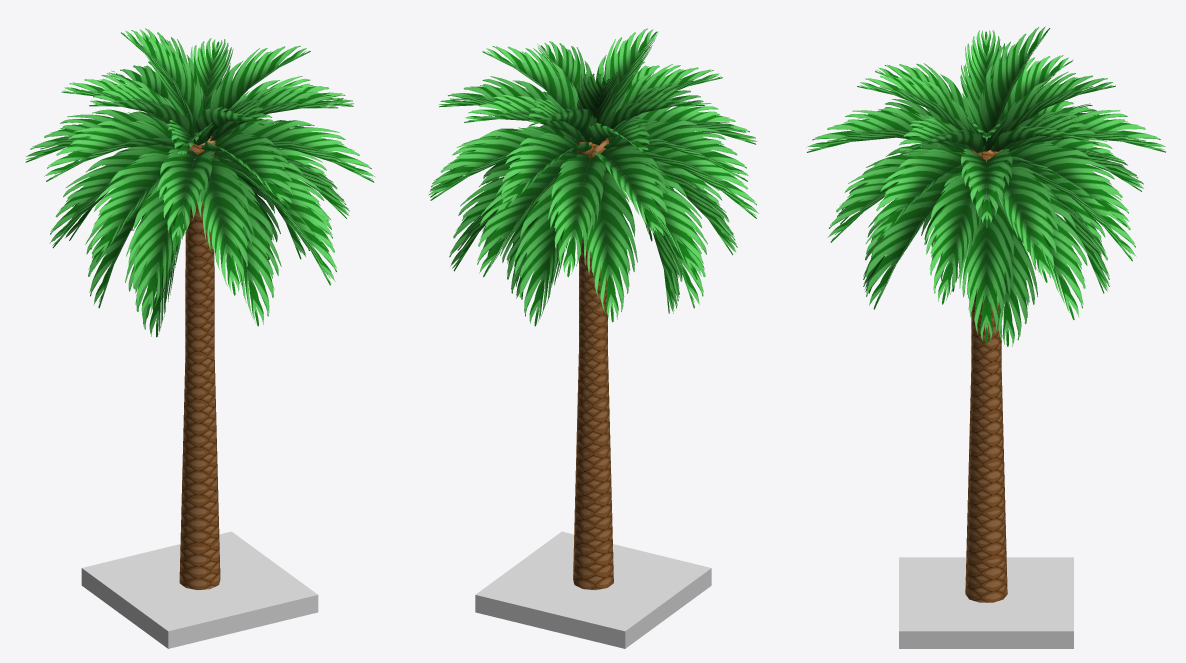
File: Palmtree.fbx
3 renders of one model, left to right at view 1: azimuth 30°, elevation 25°; view 2: azimuth 150°, elevation 25°; view 3: azimuth 270°, elevation 25°, orthographic.
Visible parts, largest first — view 1: palm_trunk, Palm_Base_low; view 2: palm_trunk, Palm_Base_low; view 3: palm_trunk, Palm_Base_low.
Boxes of the visible parts, x1,y1,x2,y2 form: palm_trunk: [25, 28, 374, 589]; Palm_Base_low: [81, 531, 318, 648]; palm_trunk: [428, 28, 758, 590]; Palm_Base_low: [475, 531, 711, 648]; palm_trunk: [806, 26, 1165, 602]; Palm_Base_low: [899, 557, 1073, 648].
Bounding box in the file's own units: 9.98 × 17.03 × 9.98.
3 materials, 2 textured.
